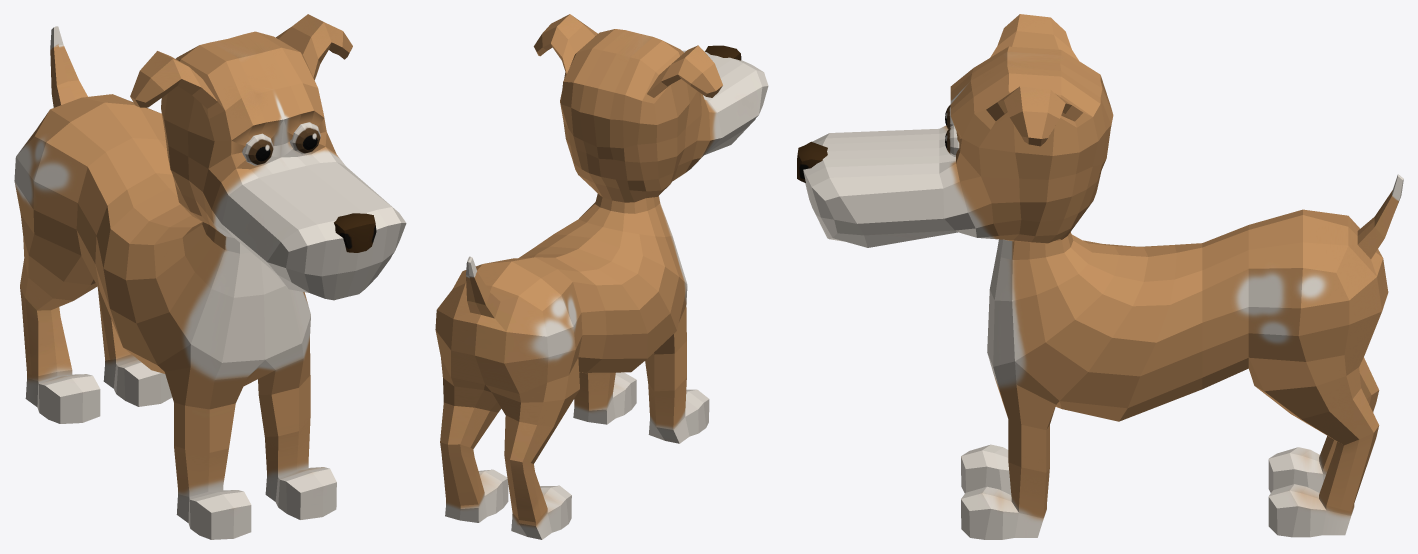
The model's file is dogfix.fbx.
The picture shows the model from 3 angles, left to right: view 1: azimuth 30°, elevation 25°; view 2: azimuth 150°, elevation 25°; view 3: azimuth 270°, elevation 25°; orthographic projection. The views are drawn at different scales.
Parts seen in each view (by area): view 1: polySurface6; view 2: polySurface6; view 3: polySurface6.
Part boxes in pixels (x1=…): polySurface6: x1=14, y1=14, x2=406, y2=539; polySurface6: x1=435, y1=14, x2=768, y2=539; polySurface6: x1=797, y1=14, x2=1403, y2=539.
Size of the model in its own units: 5.49 by 11.21 by 13.45.
1 material, 1 textured.
